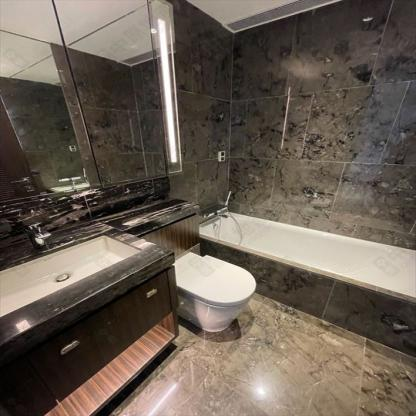Bathtub: (199, 211, 415, 355)
Faucet: (25, 214, 60, 255)
Toilet: (173, 250, 258, 331)
Toilet Sink: (0, 234, 147, 316)
